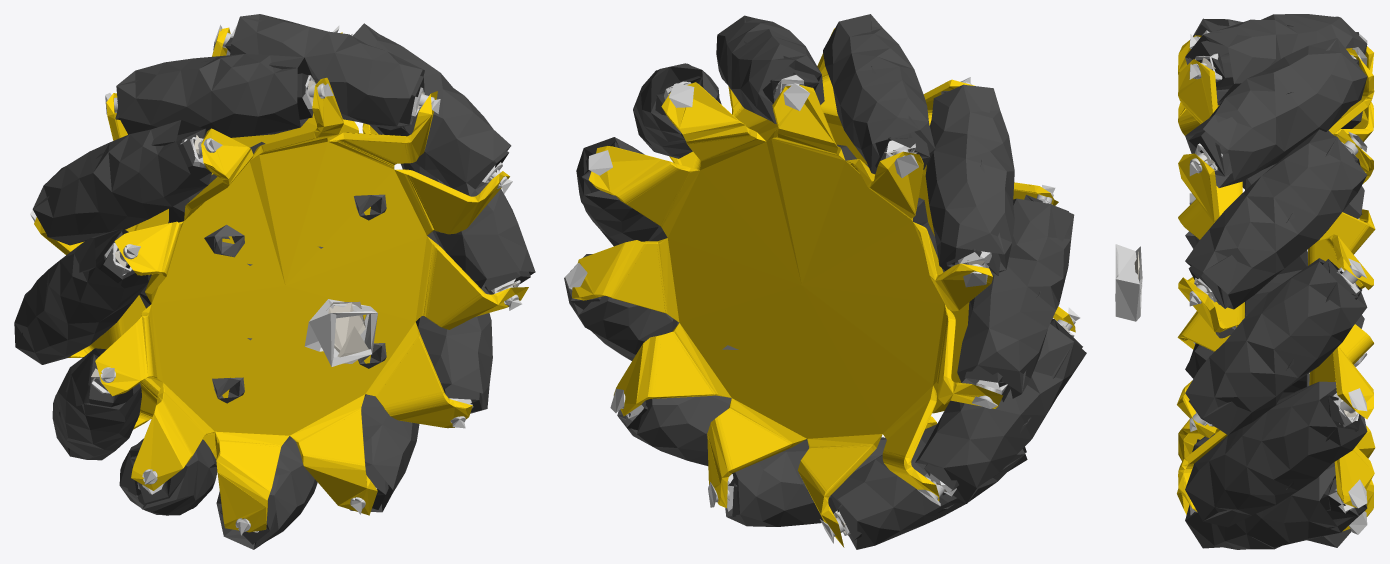
File: wheelBL.glb
3 renders of one model, left to right at view 1: azimuth 30°, elevation 25°; view 2: azimuth 150°, elevation 25°; view 3: azimuth 270°, elevation 25°, orthographic.
Parts seen in each view (by area): view 1: wheelBL_3, wheelBL_0, wheelBL_4, wheelBL_2, wheelBL_1, wheelBL_5; view 2: wheelBL_3, wheelBL_0, wheelBL_2, wheelBL_4; view 3: wheelBL_0, wheelBL_3, wheelBL_2, wheelBL_4, wheelBL_5.
Boxes of the visible parts, x1,y1,x2,y2 form: wheelBL_3: [34, 27, 528, 532]; wheelBL_0: [14, 14, 535, 549]; wheelBL_4: [47, 37, 530, 544]; wheelBL_2: [30, 24, 521, 535]; wheelBL_1: [204, 194, 386, 403]; wheelBL_5: [91, 80, 516, 379]; wheelBL_3: [572, 28, 1075, 547]; wheelBL_0: [564, 14, 1086, 549]; wheelBL_2: [565, 75, 1080, 543]; wheelBL_4: [570, 66, 1082, 540]; wheelBL_0: [1185, 14, 1367, 549]; wheelBL_3: [1177, 35, 1375, 531]; wheelBL_2: [1115, 30, 1367, 534]; wheelBL_4: [1188, 24, 1362, 519]; wheelBL_5: [1134, 58, 1356, 505].
Bounding box in the file's own units: 4.07 × 4.08 × 1.97.
